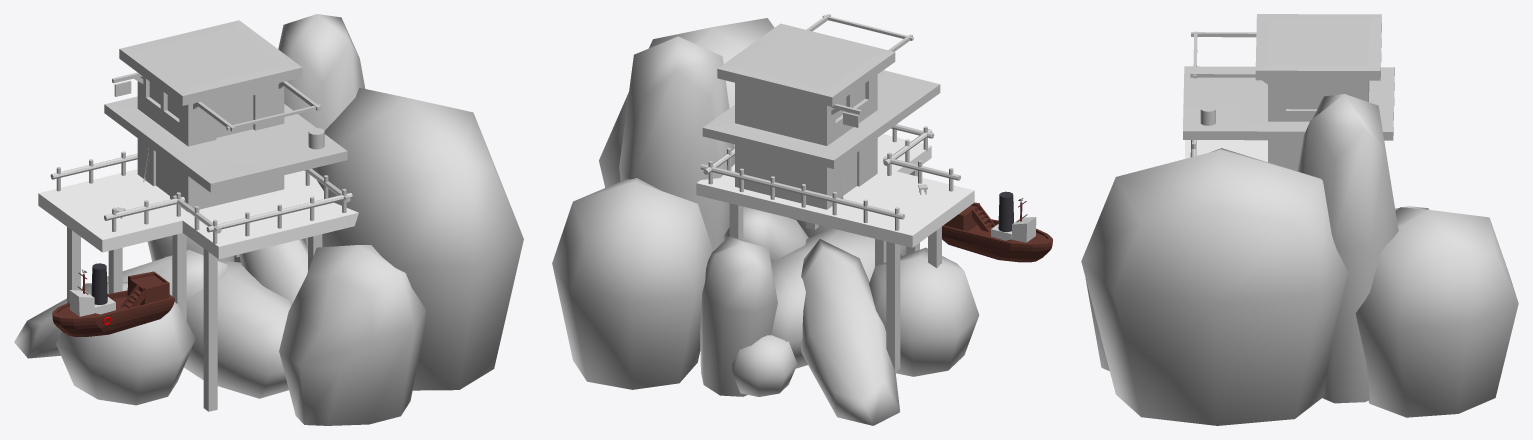
3 renders of one model, left to right at view 1: azimuth 30°, elevation 25°; view 2: azimuth 150°, elevation 25°; view 3: azimuth 270°, elevation 25°, orthographic. The views are drawn at different scales.
Parts seen in each view (by area): view 1: pCube31, pCube1, pCube32, pCube2, pCube42, pCube41, pCube30, Ship Body, pCylinder29, pCube48, pCube49, pCube6 (+7 smaller); view 2: pCube29, pCube1, pCube30, pCube48, pCube2, pCube41, pCube33, pCube42, pCube31, pCylinder29, Ship Body, pCube43 (+6 smaller); view 3: pCube31, pCube29, pCube1, pCube30, pCube2, pCube25, pCube32.
Boxes of the visible parts, left/top/right/bottom form: pCube31: left=305, top=87, right=523, bottom=390; pCube1: left=104, top=20, right=347, bottom=212; pCube32: left=279, top=245, right=426, bottom=425; pCube2: left=38, top=169, right=358, bottom=259; pCube42: left=165, top=256, right=291, bottom=398; pCube41: left=56, top=282, right=195, bottom=405; pCube30: left=278, top=14, right=365, bottom=244; Ship Body: left=52, top=271, right=174, bottom=336; pCylinder29: left=50, top=151, right=352, bottom=245; pCube48: left=14, top=250, right=227, bottom=358; pCube49: left=239, top=239, right=307, bottom=305; pCube6: left=203, top=248, right=217, bottom=411; pCube29: left=552, top=178, right=713, bottom=389; pCube1: left=702, top=23, right=940, bottom=209; pCube30: left=619, top=36, right=734, bottom=250; pCube48: left=800, top=239, right=899, bottom=425; pCube2: left=696, top=134, right=974, bottom=247; pCube41: left=869, top=247, right=979, bottom=376; pCube33: left=700, top=236, right=777, bottom=396; pCube42: left=771, top=228, right=901, bottom=368; pCube31: left=599, top=18, right=774, bottom=187; pCylinder29: left=700, top=124, right=960, bottom=230; Ship Body: left=942, top=201, right=1052, bottom=262; pCube43: left=730, top=335, right=797, bottom=396; pCube31: left=1081, top=148, right=1348, bottom=425; pCube29: left=1355, top=207, right=1518, bottom=417; pCube1: left=1183, top=14, right=1394, bottom=171; pCube30: left=1297, top=94, right=1398, bottom=403; pCube2: left=1185, top=140, right=1267, bottom=162; pCube25: left=1190, top=32, right=1267, bottom=84; pCube32: left=1085, top=279, right=1109, bottom=370.
Size of the model in its own units: 3.28 by 2.26 by 2.92.
